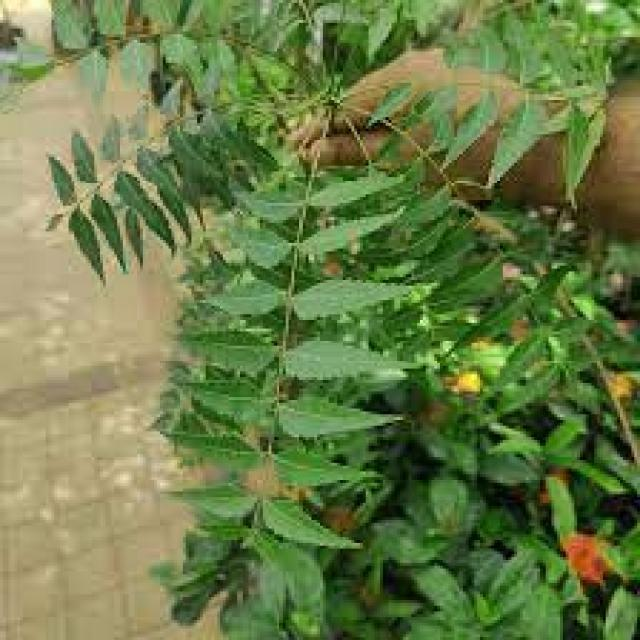Wet: (28, 0, 629, 640)
